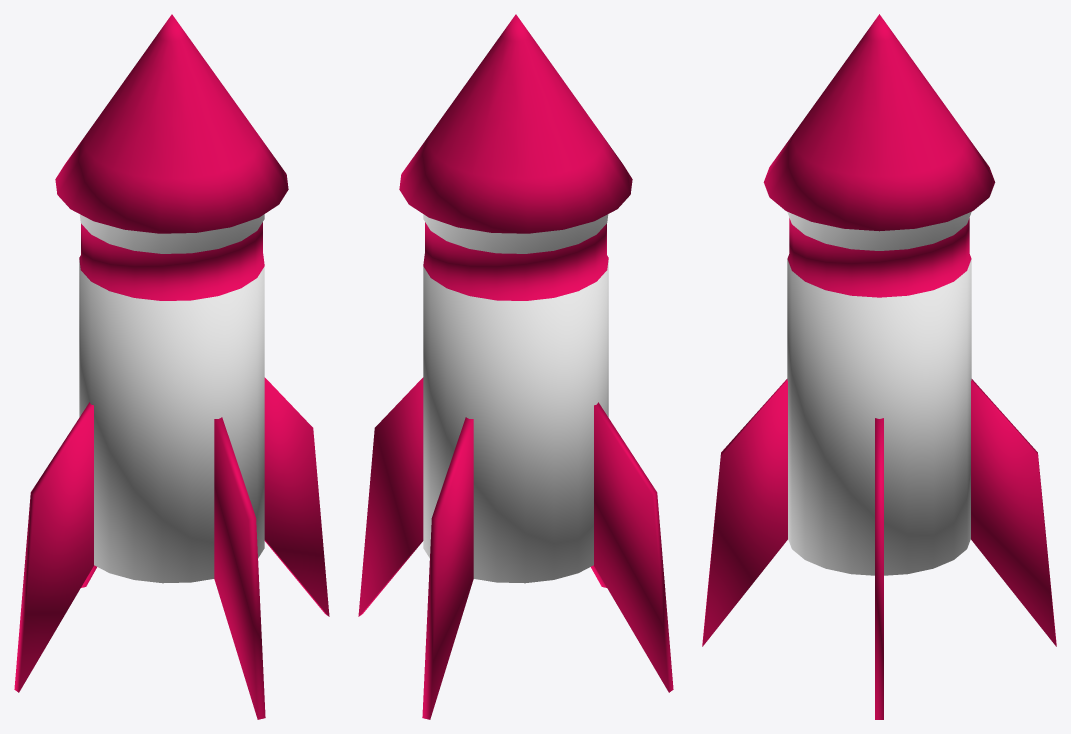
File: bazooka.fbx
The picture shows the model from 3 angles, left to right: view 1: azimuth 30°, elevation 25°; view 2: azimuth 150°, elevation 25°; view 3: azimuth 270°, elevation 25°; orthographic projection.
Parts seen in each view (by area): view 1: bazooka; view 2: bazooka; view 3: bazooka.
Part boxes in pixels (<box>): bazooka: <box>14,14,329,719</box>; bazooka: <box>358,14,673,719</box>; bazooka: <box>702,14,1056,719</box>.
Size of the model in its own units: 76.9 by 151 by 76.9.
